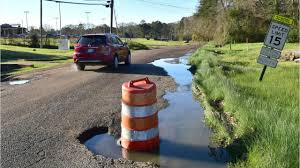pothole: (74, 124, 120, 168), (160, 85, 203, 129), (147, 54, 192, 82), (7, 72, 28, 87)
